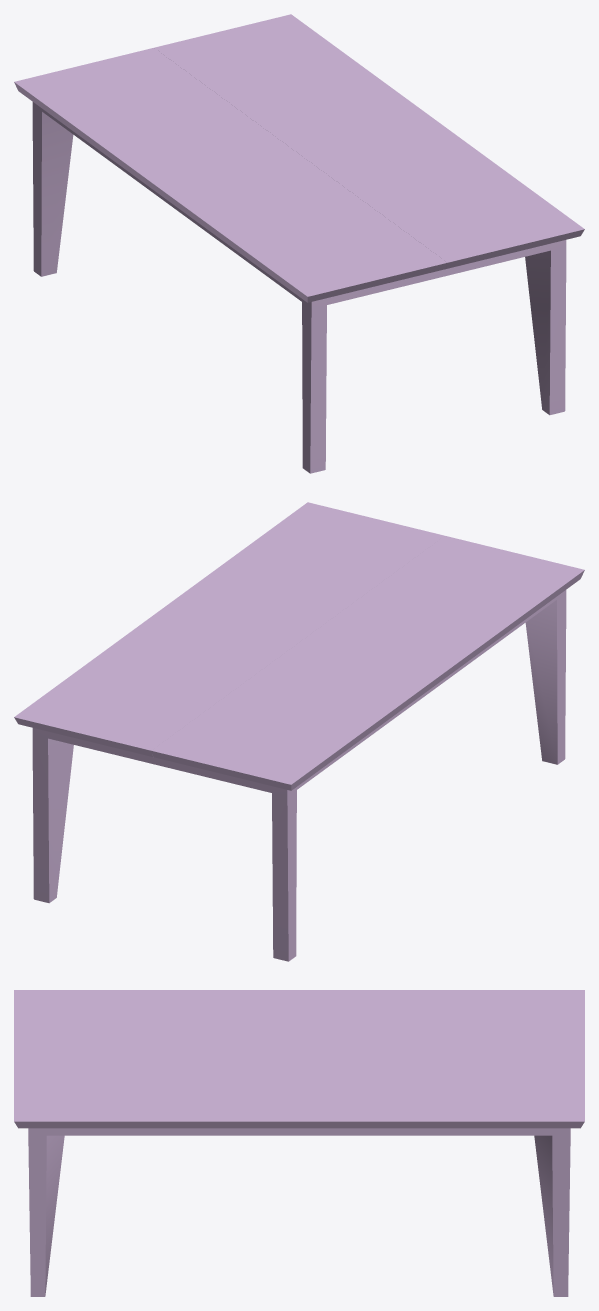
The picture shows the model from 3 angles, top to bottom: view 1: azimuth 30°, elevation 25°; view 2: azimuth 150°, elevation 25°; view 3: azimuth 270°, elevation 25°; orthographic projection. The views are drawn at different scales.
Visible parts, largest first — view 1: split_parent_0; view 2: split_parent_0; view 3: split_parent_0.
Part boxes in pixels (x1,y1,x2,y2): split_parent_0: (14, 14, 584, 473); split_parent_0: (14, 502, 584, 961); split_parent_0: (14, 990, 584, 1296).
Size of the model in its own units: 0.5449 by 0.3492 by 1.
